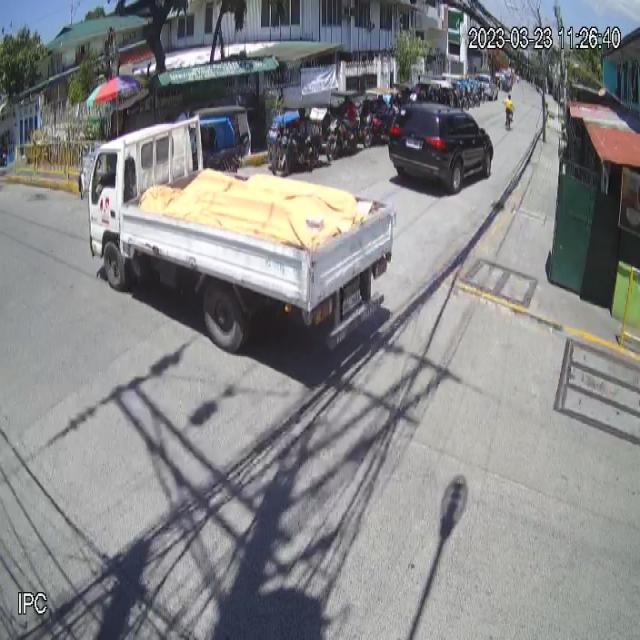Car: (388, 101, 494, 198)
Truck: (76, 109, 398, 354)
